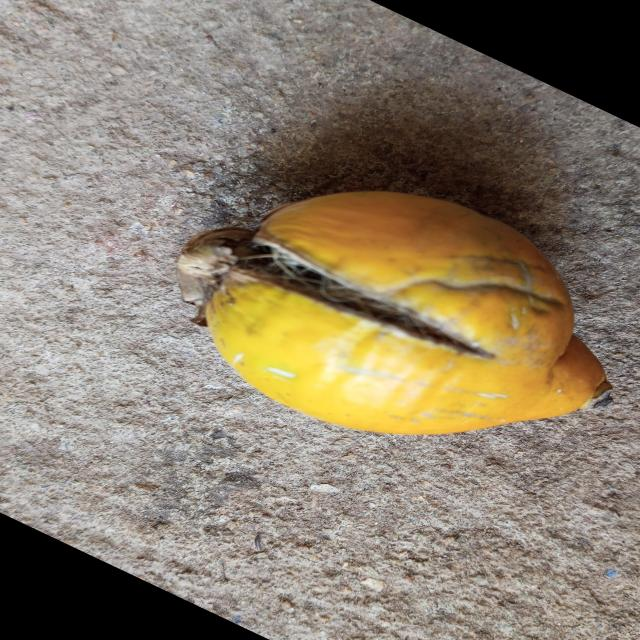damaged: (175, 191, 613, 439)
